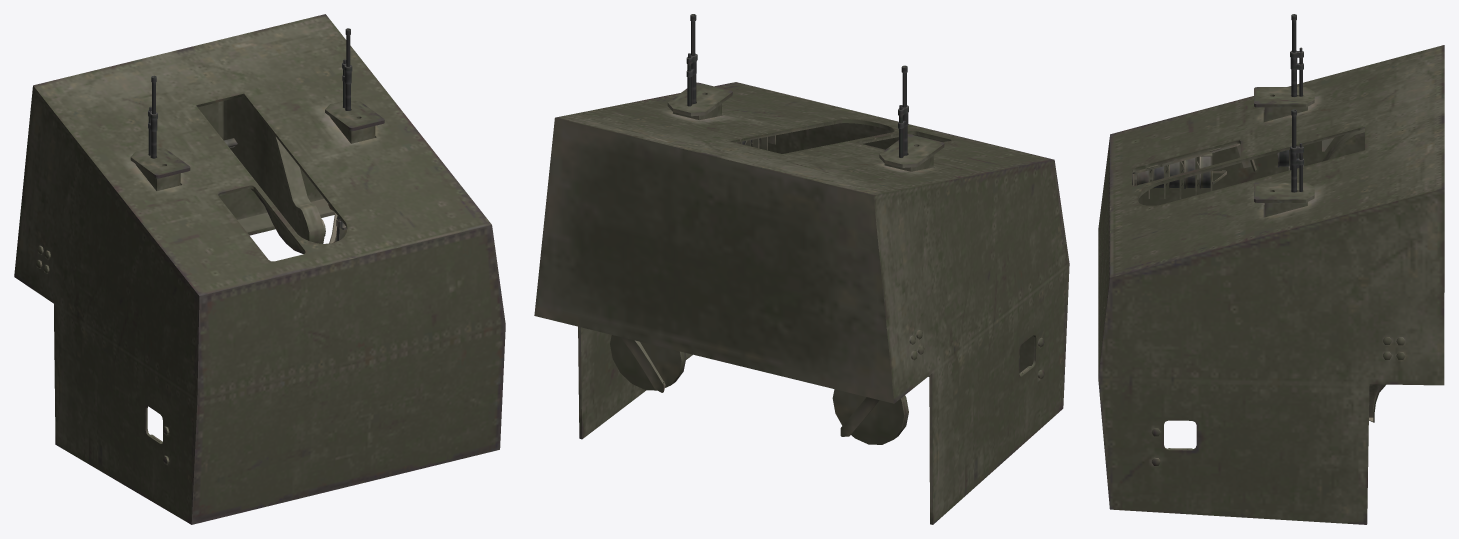
The model's file is Turret_01.glb.
3 renders of one model, left to right at view 1: azimuth 30°, elevation 25°; view 2: azimuth 150°, elevation 25°; view 3: azimuth 270°, elevation 25°, orthographic. The views are drawn at different scales.
Visible parts, largest first — view 1: set_0_group_0; view 2: set_0_group_0; view 3: set_0_group_0.
Part boxes in pixels (bbox=[...]): set_0_group_0: bbox=[14, 14, 505, 524]; set_0_group_0: bbox=[534, 14, 1069, 524]; set_0_group_0: bbox=[1098, 14, 1444, 524].
Bounding box in the file's own units: 1.5 × 1.64 × 1.35.
Materials: 1 (1 with a texture image).
